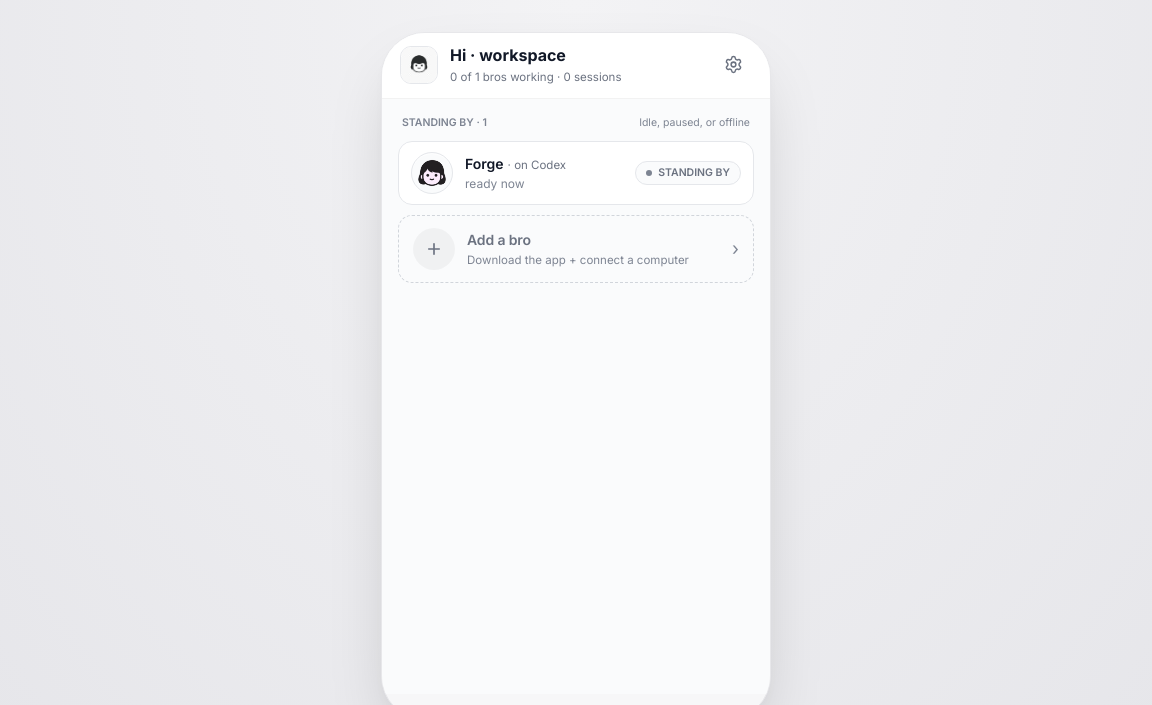
Test case: Newbro artboard shell › renames a Bro from mobile Manage bros
The image size is (1152, 705).
Click the button named "Account" at {"x": 733, "y": 65}, box [714,46,752,84]
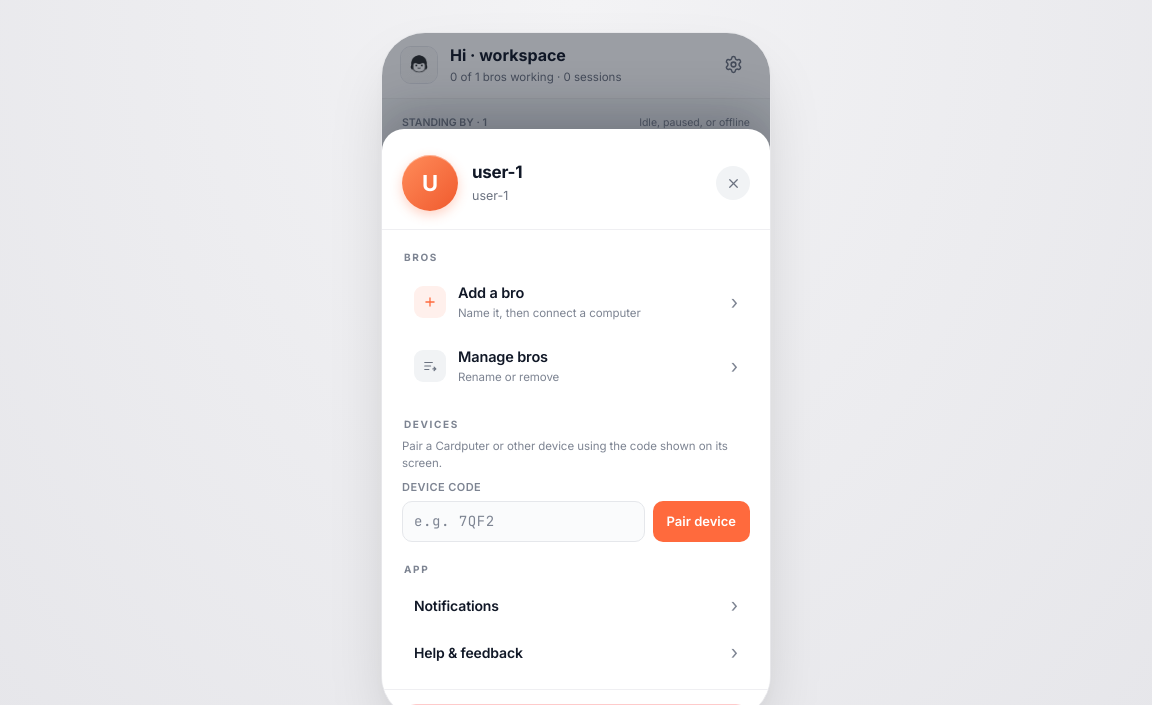
Click the button "Manage bros Rename or remove ›" at {"x": 430, "y": 366}, box [402,335,750,397]
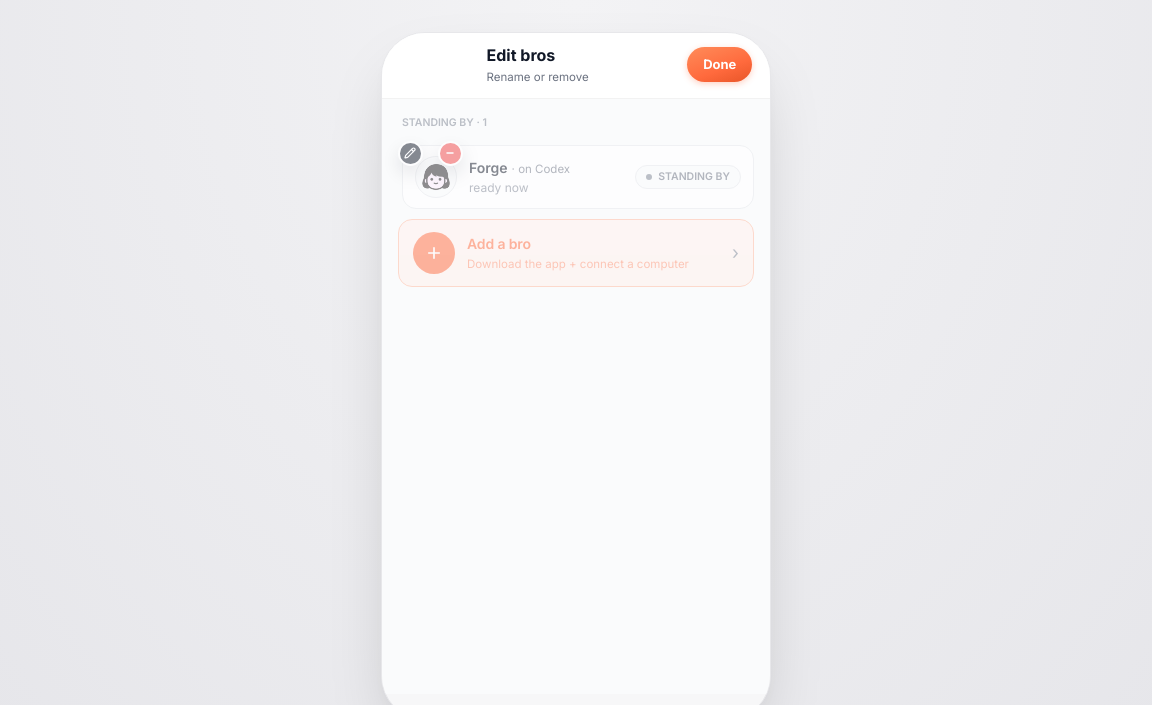
Click the button named "Rename Forge" at {"x": 410, "y": 153}, box [390,133,430,173]
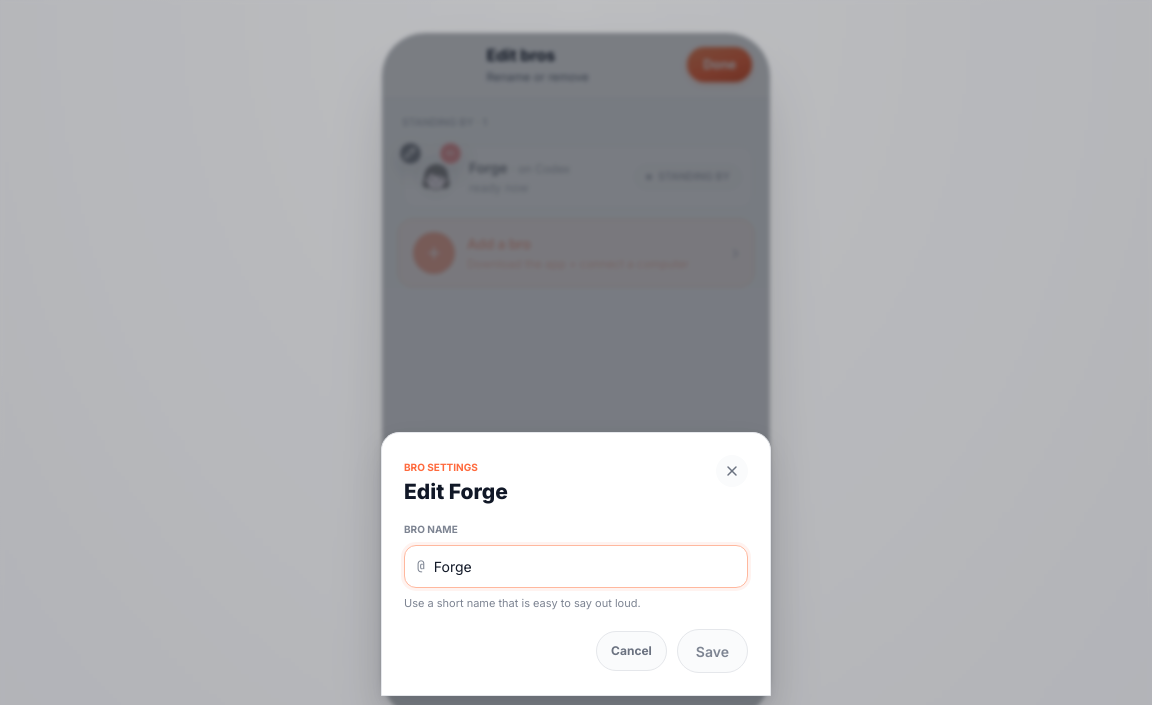
Replace the text in the field labelled "BRO NAME" with "Scout" at {"x": 584, "y": 566}, box [434,556,735,577]
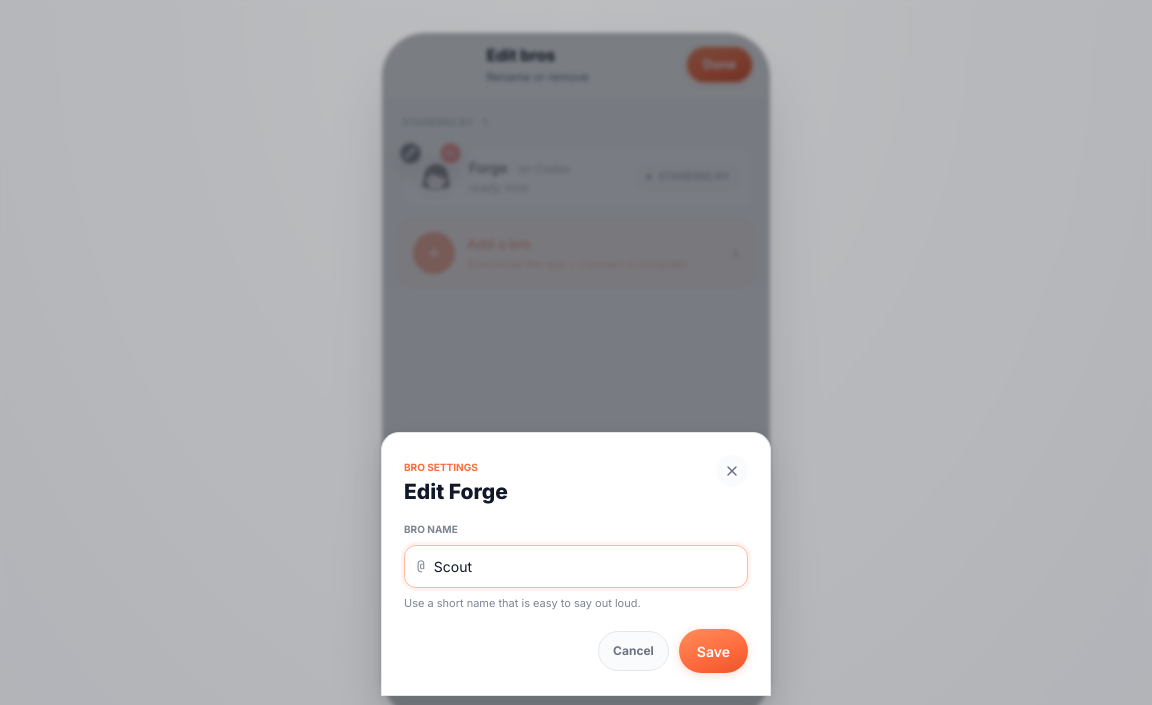
Click the button "Save" at {"x": 713, "y": 651}, box [679,629,748,673]
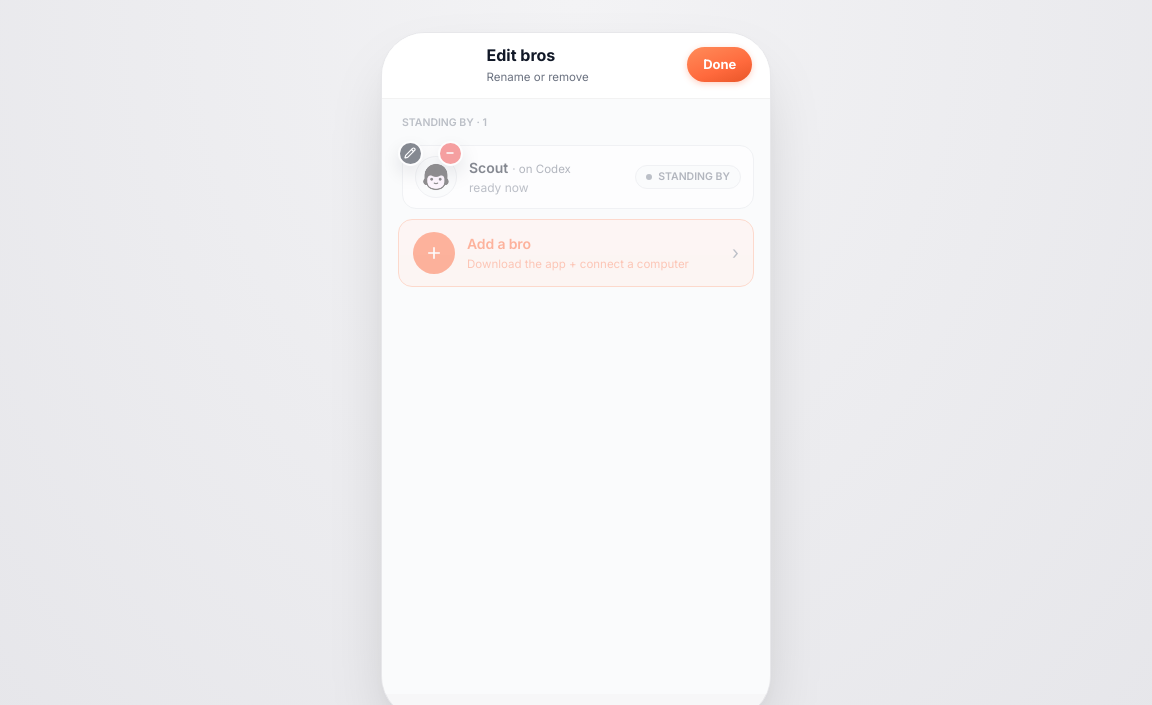
Check: the text "Scout" is shown, box [469,157,508,178]
